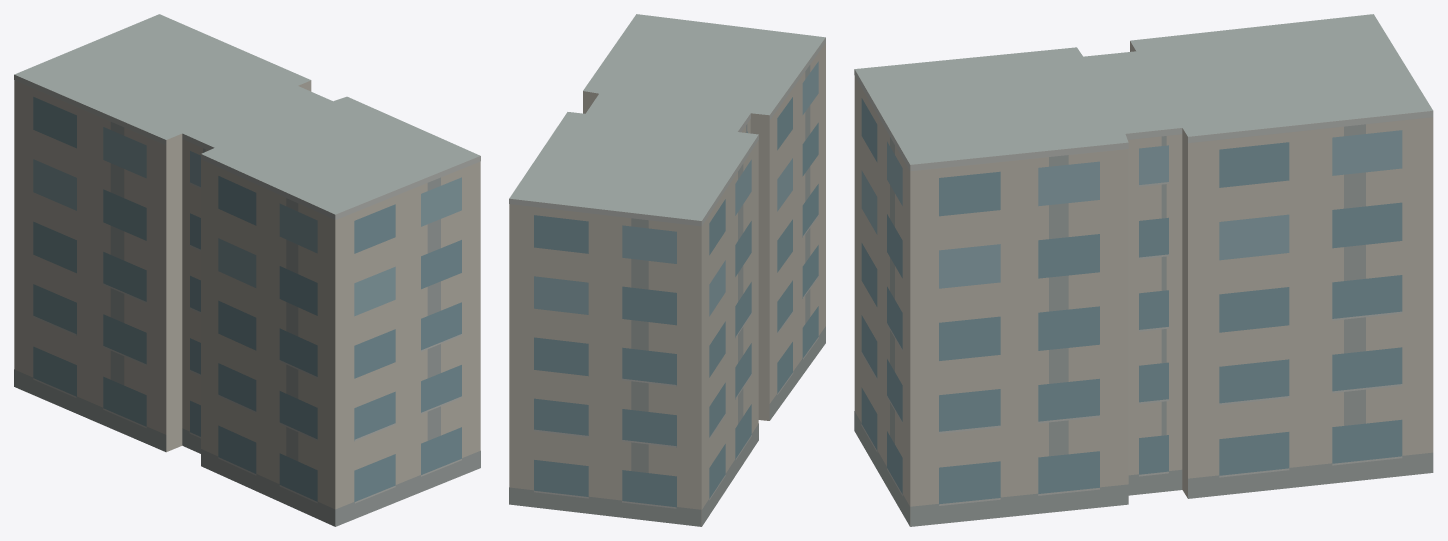
The model's file is survey-upis-32914651.glb.
The picture shows the model from 3 angles, left to right: view 1: azimuth 30°, elevation 25°; view 2: azimuth 150°, elevation 25°; view 3: azimuth 270°, elevation 25°; orthographic projection. The views are drawn at different scales.
Parts seen in each view (by area): view 1: survey-upis-32914651.tmp; view 2: survey-upis-32914651.tmp; view 3: survey-upis-32914651.tmp.
Boxes of the visible parts, bbox=[...] form: survey-upis-32914651.tmp: bbox=[14, 14, 480, 526]; survey-upis-32914651.tmp: bbox=[509, 14, 825, 526]; survey-upis-32914651.tmp: bbox=[854, 14, 1433, 526].
Size of the model in its own units: 12.43 by 13.9 by 20.15.
